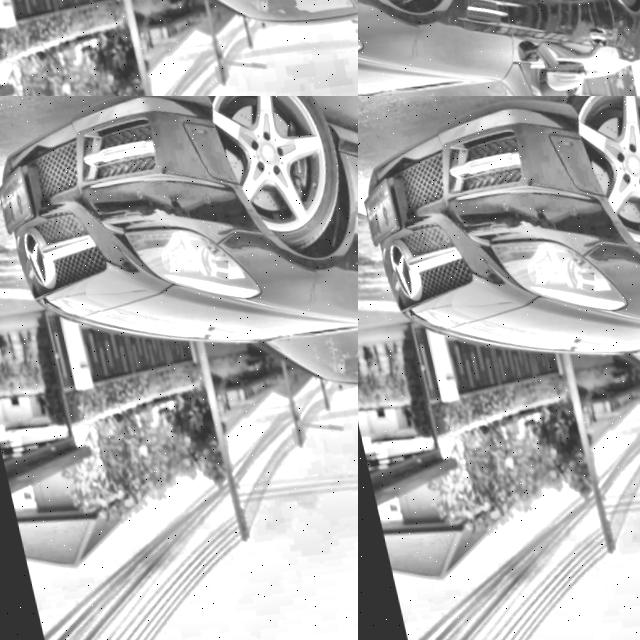license-plate: (42, 154, 116, 217), (358, 165, 412, 248)
